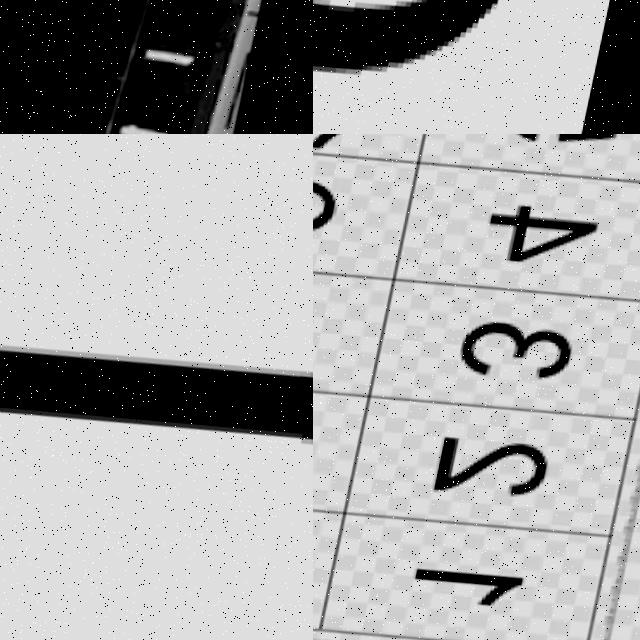1: (404, 560, 542, 620), (147, 45, 210, 77)
2: (431, 425, 563, 522)
3: (456, 309, 593, 397)
4: (479, 197, 611, 278), (123, 121, 186, 134)
5: (501, 134, 630, 160)
9: (313, 166, 344, 241)
I: (0, 338, 313, 441)
Q: (313, 0, 621, 114)
